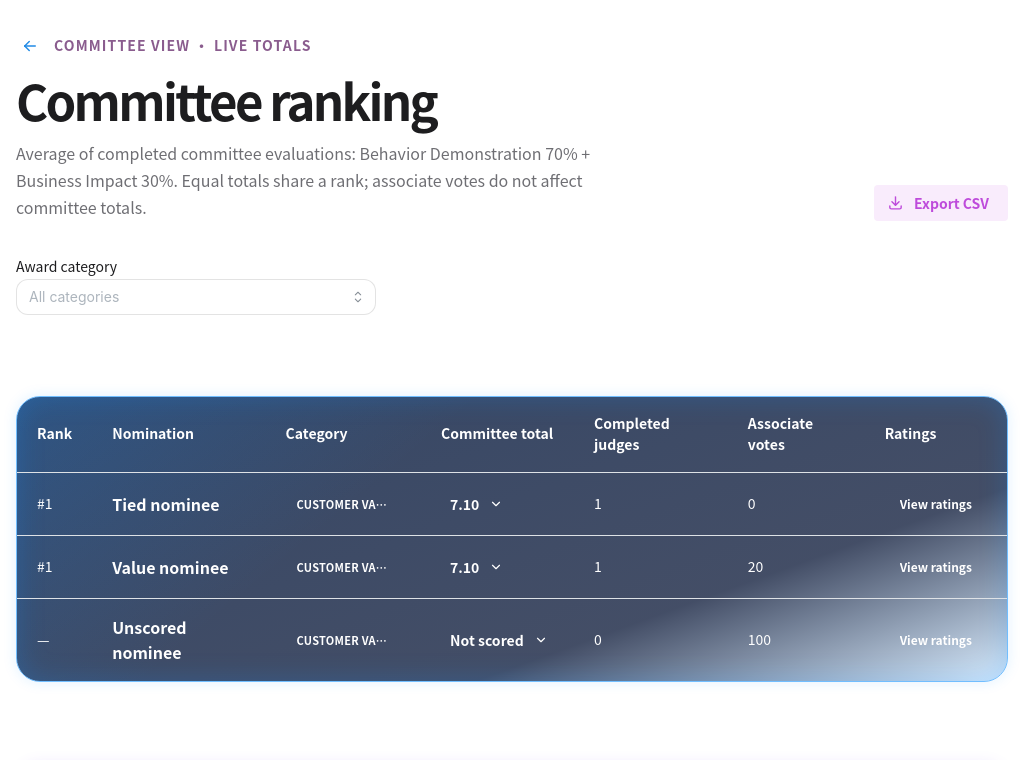
Test: refreshes the average, rank, judge count and open details when another judge submits
The image size is (1024, 760).
Click the button "7.10" in the row of "Value nominee" at [475, 567], box [441,554,510,580]
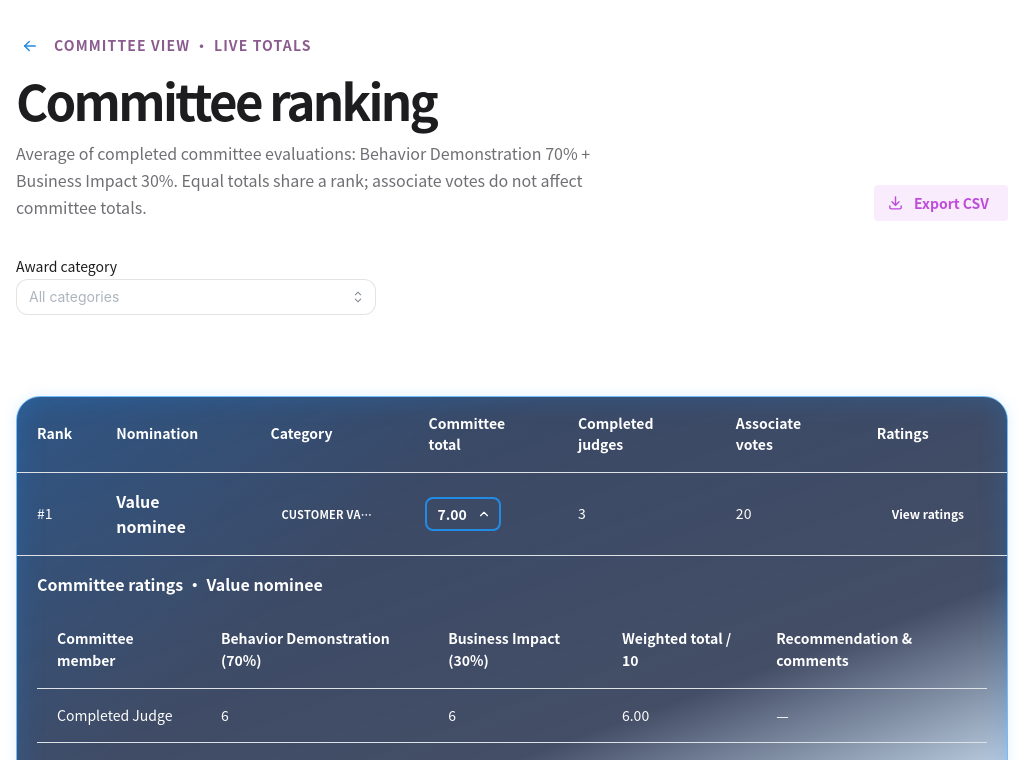
Result: the button named "6.50" is expanded at [428,501,497,527]
Result: the text "6" is shown 2 times at [201,688,428,743]; [428,688,602,743]
Result: the text "3" is shown at [558,472,716,555]
